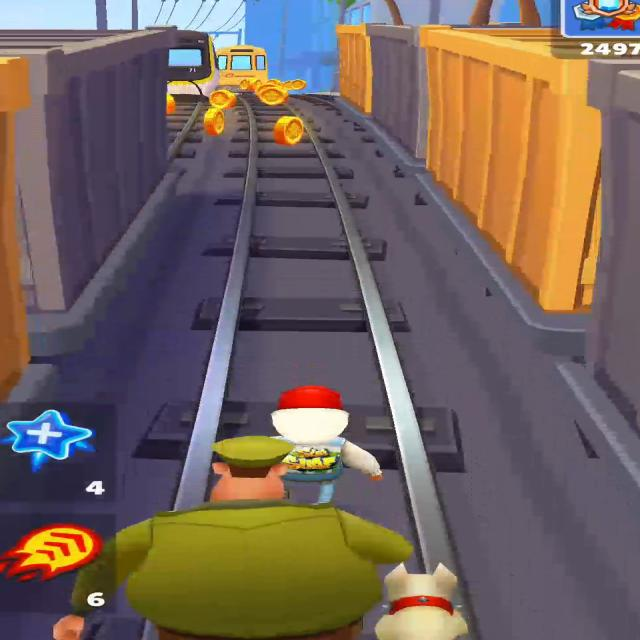police: (53, 436, 412, 640)
train: (337, 24, 639, 391), (0, 28, 178, 399), (167, 30, 219, 101), (219, 46, 269, 90)
